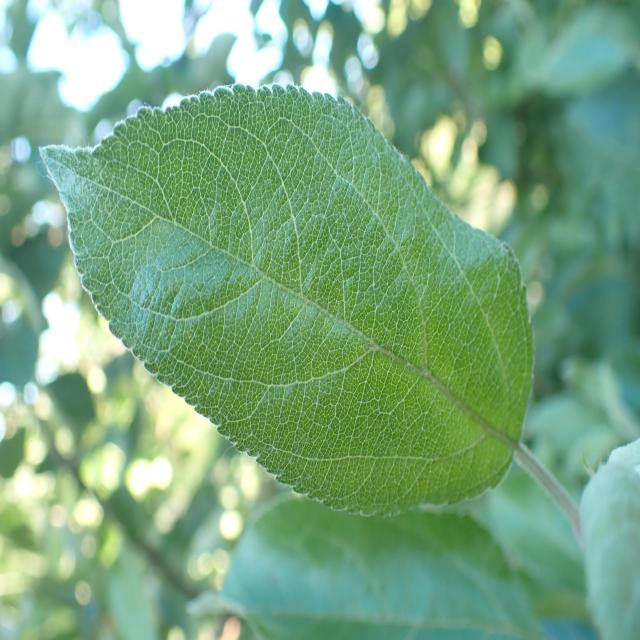healthy: (37, 81, 536, 518), (187, 494, 546, 639), (579, 438, 640, 640)
